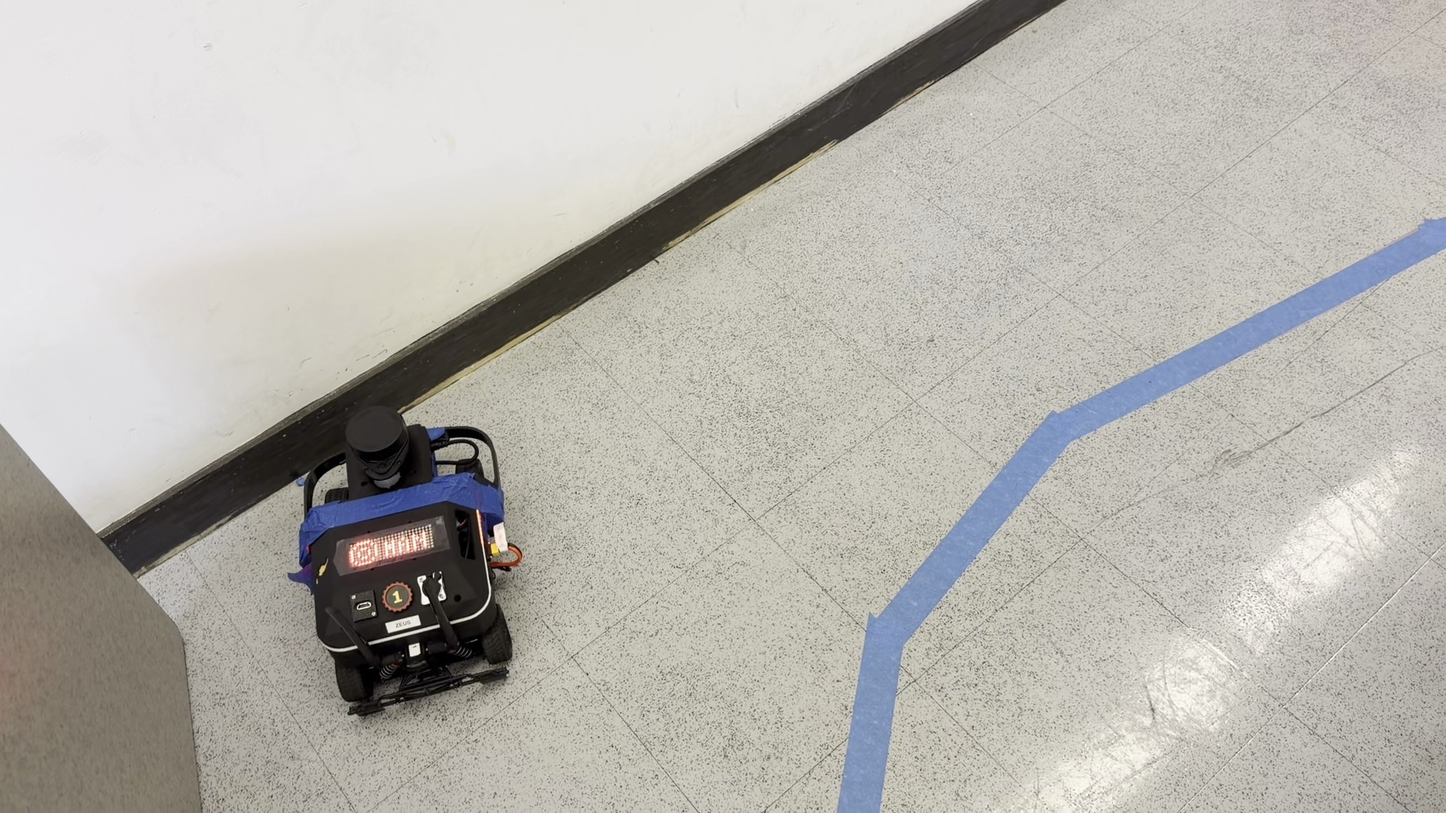racecar: (292, 415, 522, 713)
